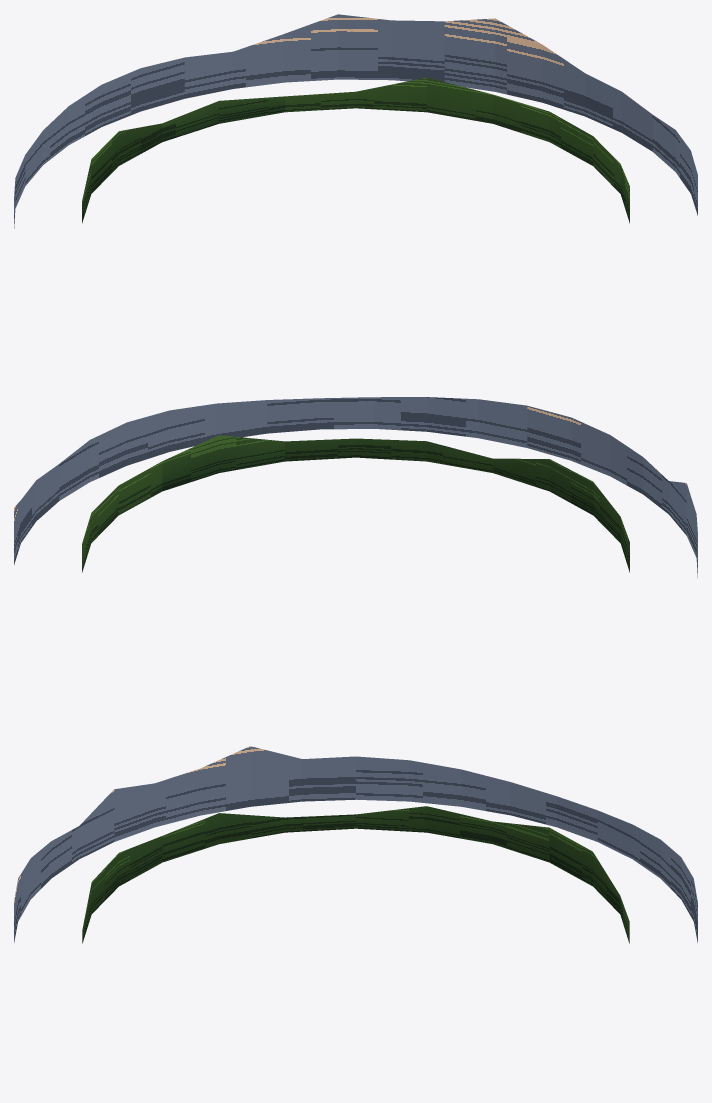
File: mter.backdrop.glb
3 renders of one model, top to bottom at view 1: azimuth 30°, elevation 25°; view 2: azimuth 150°, elevation 25°; view 3: azimuth 270°, elevation 25°, orthographic.
Visible parts, largest first — view 1: kit_shell_vista_far, kit_shell_vista; view 2: kit_shell_vista_far, kit_shell_vista; view 3: kit_shell_vista_far, kit_shell_vista.
Part boxes in pixels (left/top/right/bottom): kit_shell_vista_far: left=14, top=14, right=697, bottom=228; kit_shell_vista: left=82, top=77, right=629, bottom=223; kit_shell_vista_far: left=14, top=397, right=697, bottom=577; kit_shell_vista: left=82, top=435, right=629, bottom=572; kit_shell_vista_far: left=14, top=746, right=697, bottom=942; kit_shell_vista: left=82, top=806, right=629, bottom=943.
Size of the model in its own units: 650 by 76.93 by 650.
Materials: 2 (2 with a texture image).
